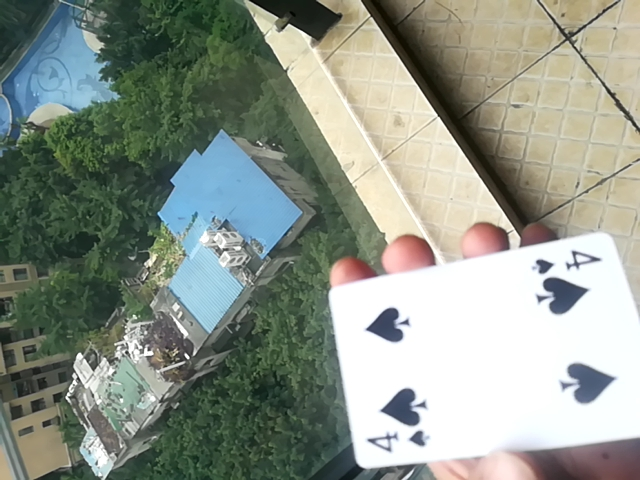ht 4: (320, 228, 640, 475)
